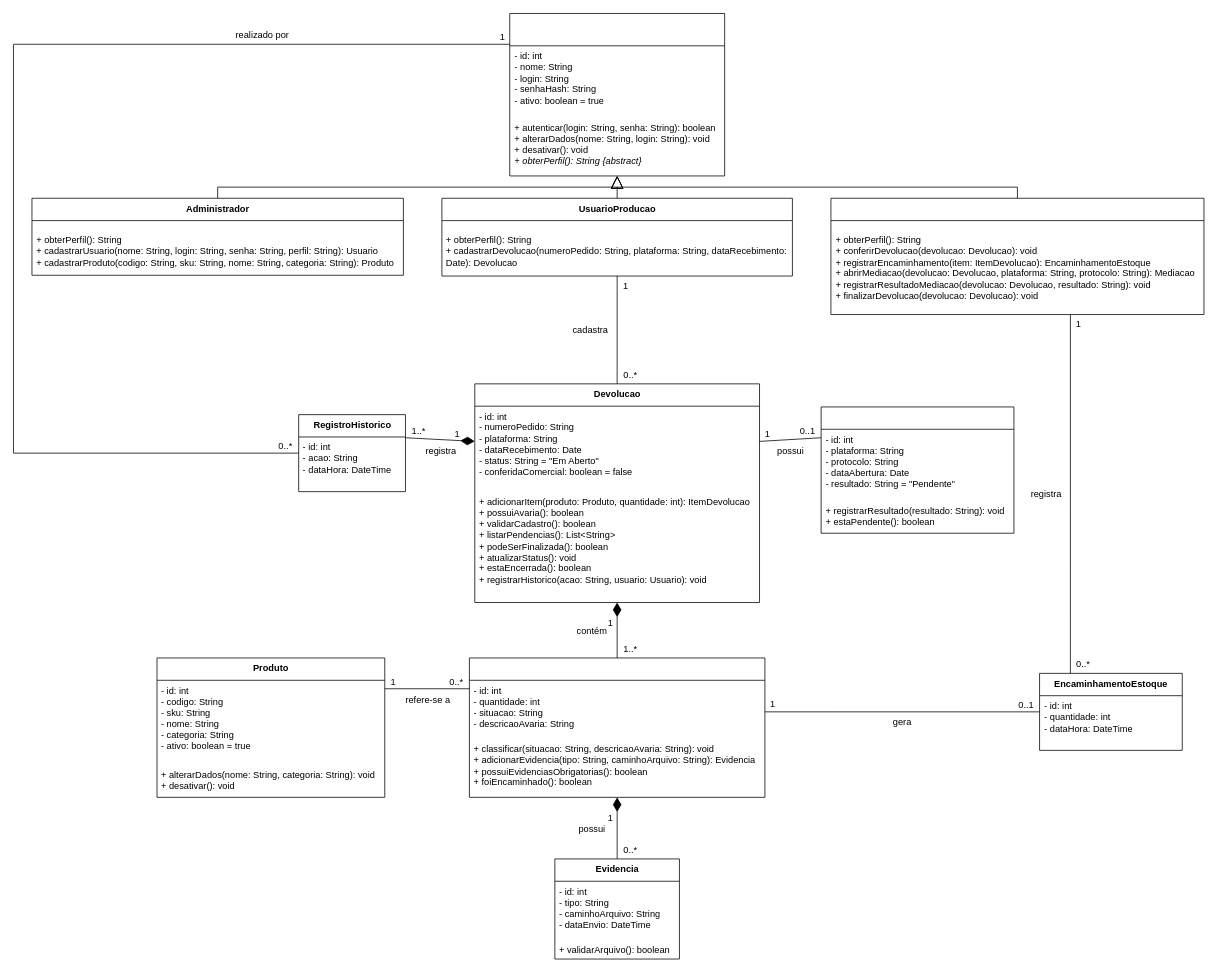
The diagram is 1218 pixels wide and 975 high, and some of its shapes have lost their labels. The box of each missing label's shape, as (x1, y1, x2, y2) in pixels:
ItemDevolucao: (469, 657, 765, 797)
Mediacao: (820, 406, 1014, 533)
UsuarioComercial: (830, 198, 1204, 315)
«abstract» Usuario: (509, 13, 725, 176)
